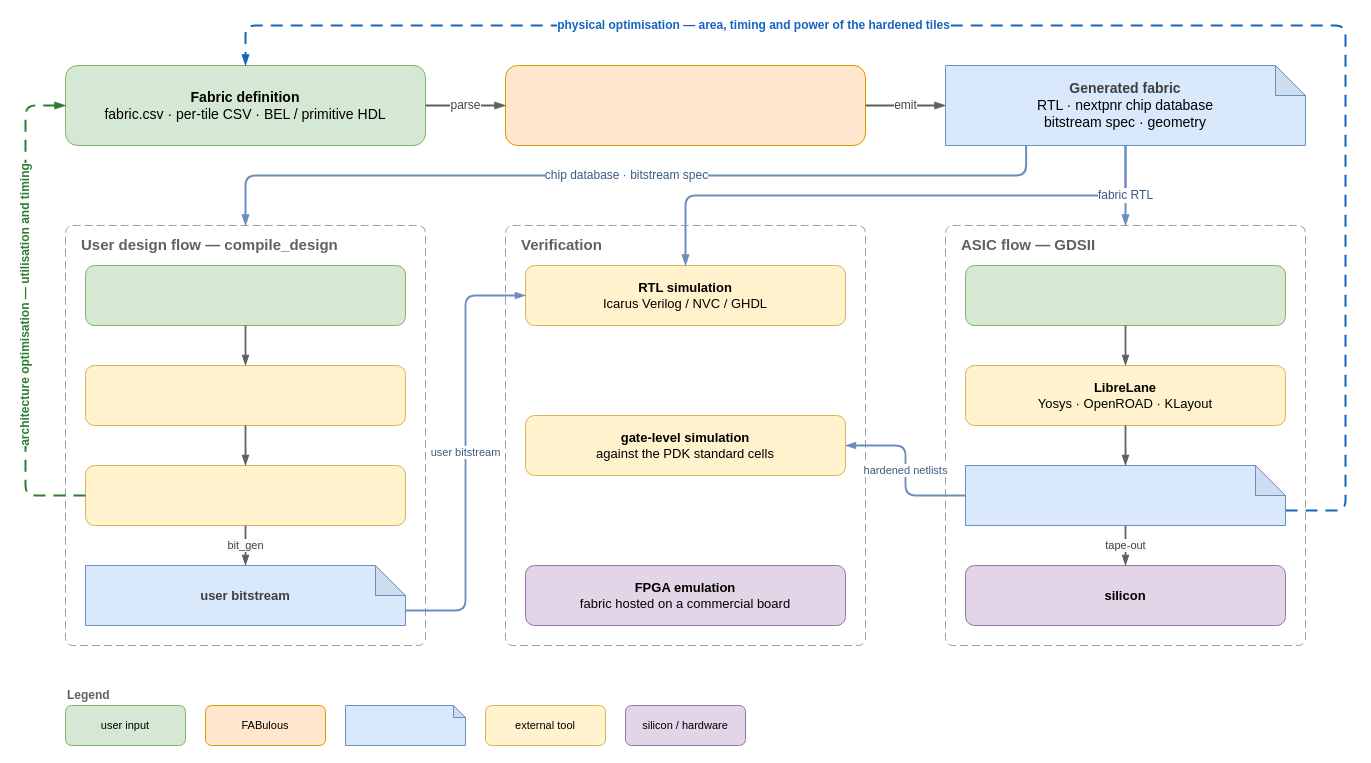
This 1371x763 diagram has some shape labels left out. Here are the shapes that lost their labels. From the top down, the centre of each, then its label:
At (x=685, y=105): "FABulous fabric generator — run_fab".
At (x=245, y=295): "user design — Verilog / VHDL".
At (x=1125, y=295): "PDK — IHP SG13G2 · SKY130A · GF180MCU".
At (x=245, y=395): "Yosys synthesis onto the fabric primitives".
At (x=245, y=495): "nextpnr place & route".
At (x=1125, y=495): "hardened macros tiles, then the stitched fabric".
At (x=405, y=725): "generated artifact".
